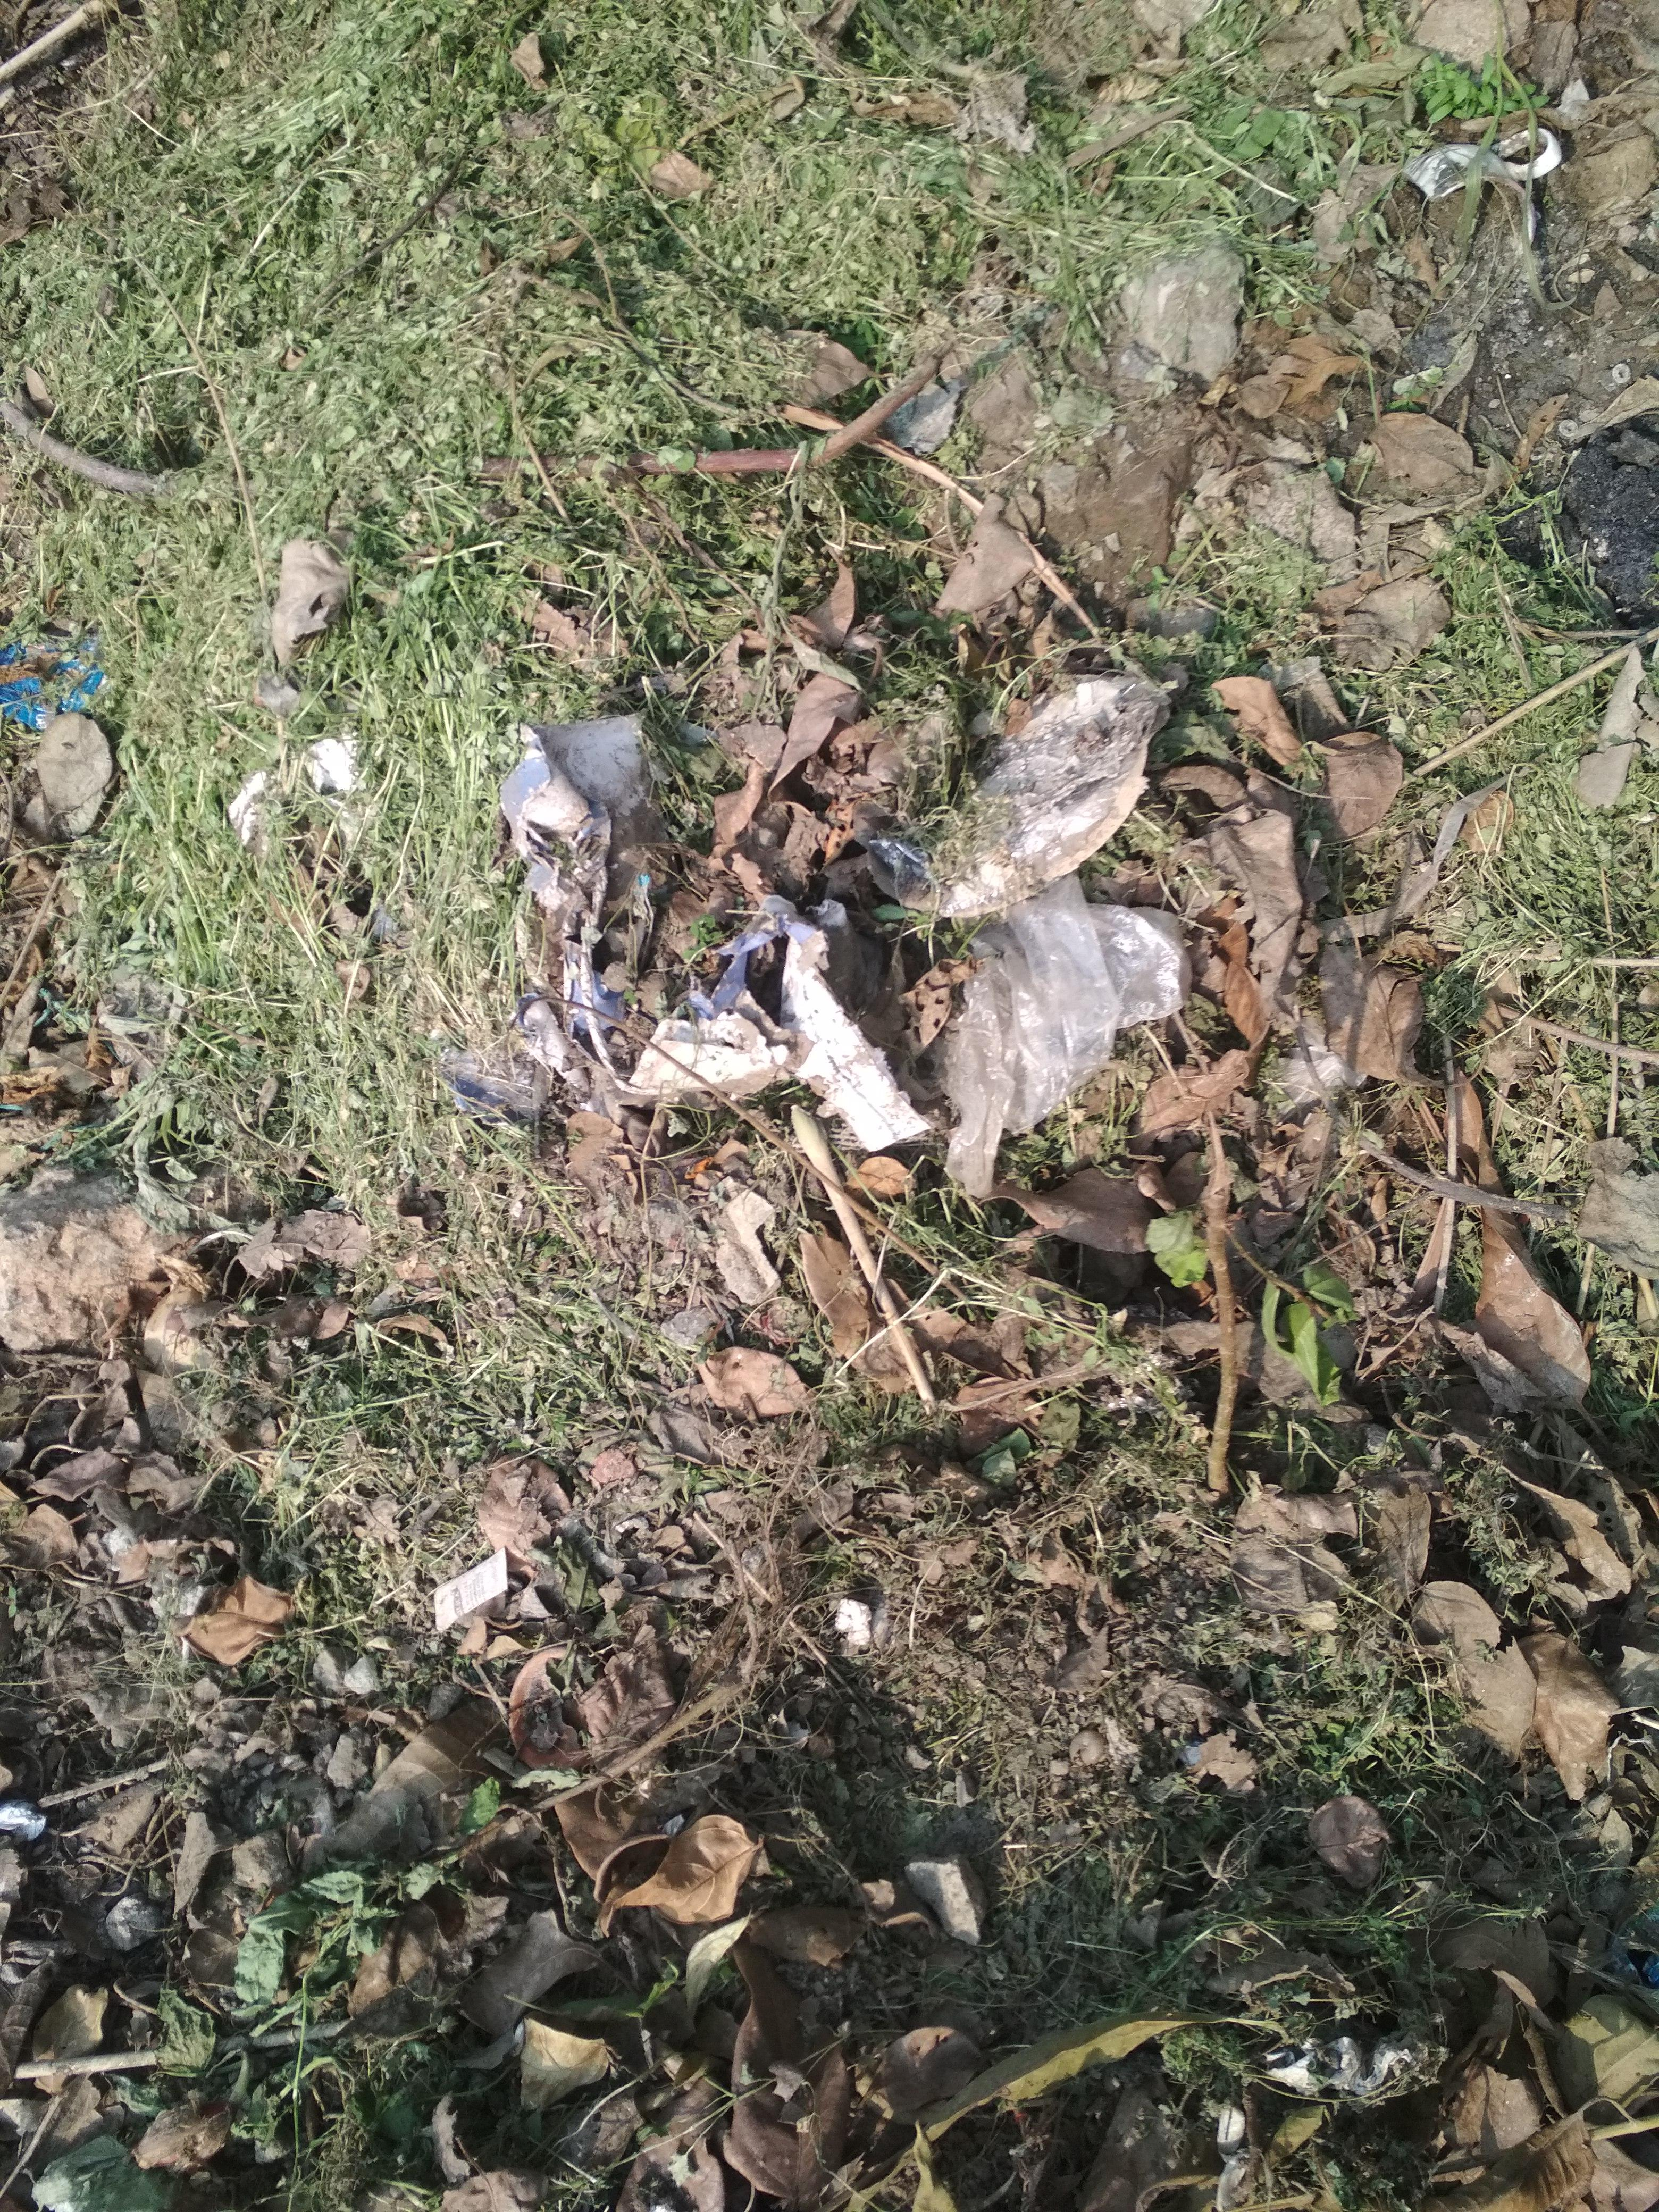organic: (469, 604, 1206, 1231)
